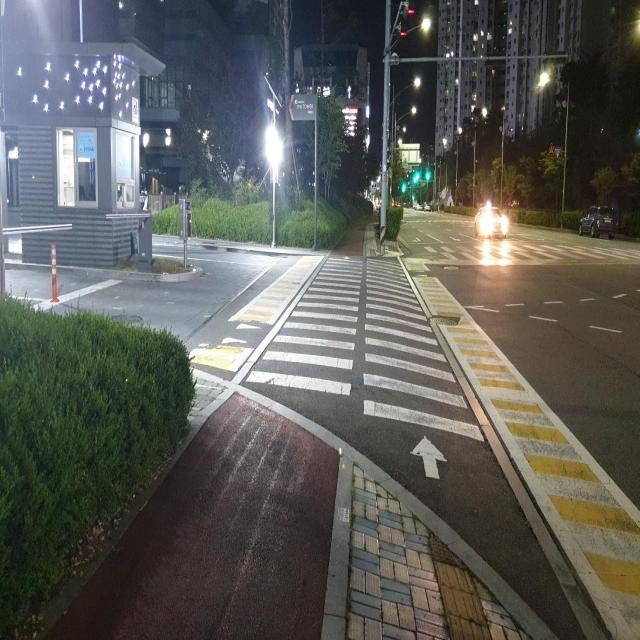횡단보도: (245, 254, 485, 482), (418, 242, 640, 266)
